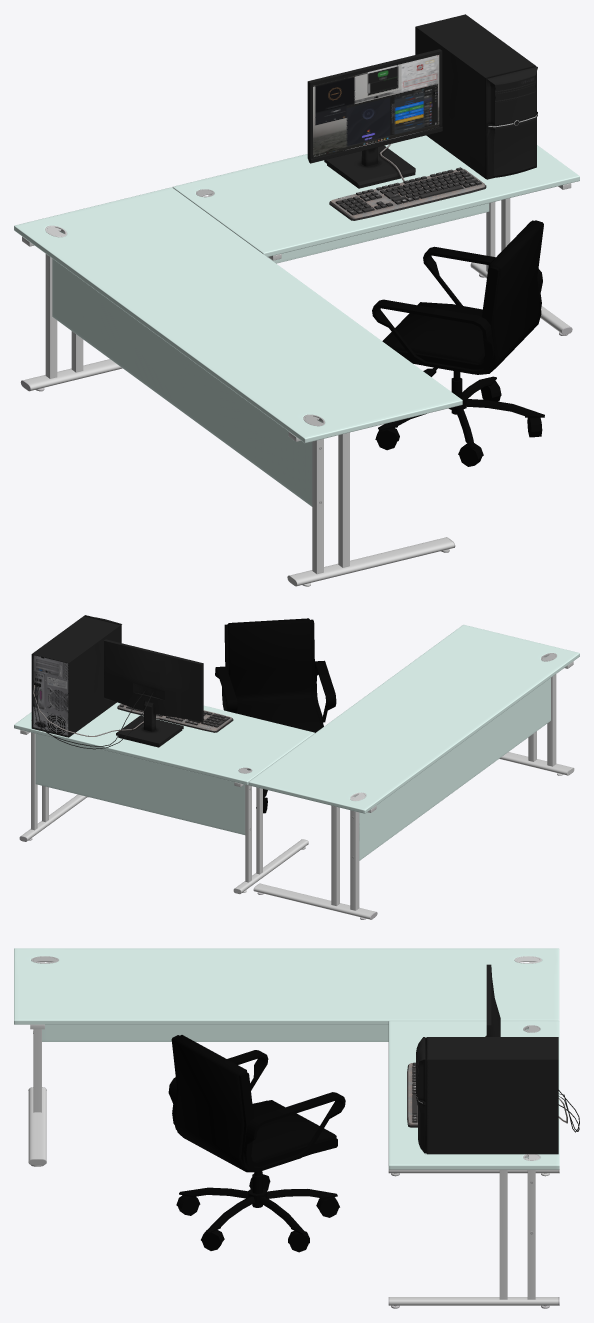
File: ClassRoomTable.glb
3 views of the same model, one above another, from view 1: azimuth 30°, elevation 25°; view 2: azimuth 150°, elevation 25°; view 3: azimuth 270°, elevation 25° (orthographic). The views are drawn at different scales.
Parts seen in each view (by area): view 1: Profesor_table01; view 2: Profesor_table01; view 3: Profesor_table01.
Boxes of the visible parts, x1,y1,x2,y2 form: Profesor_table01: (14,14,579,586); Profesor_table01: (14,615,579,919); Profesor_table01: (14,948,579,1308).
Size of the model in its own units: 2.4 by 1.28 by 2.65.
Materials: 8 (5 with a texture image).
